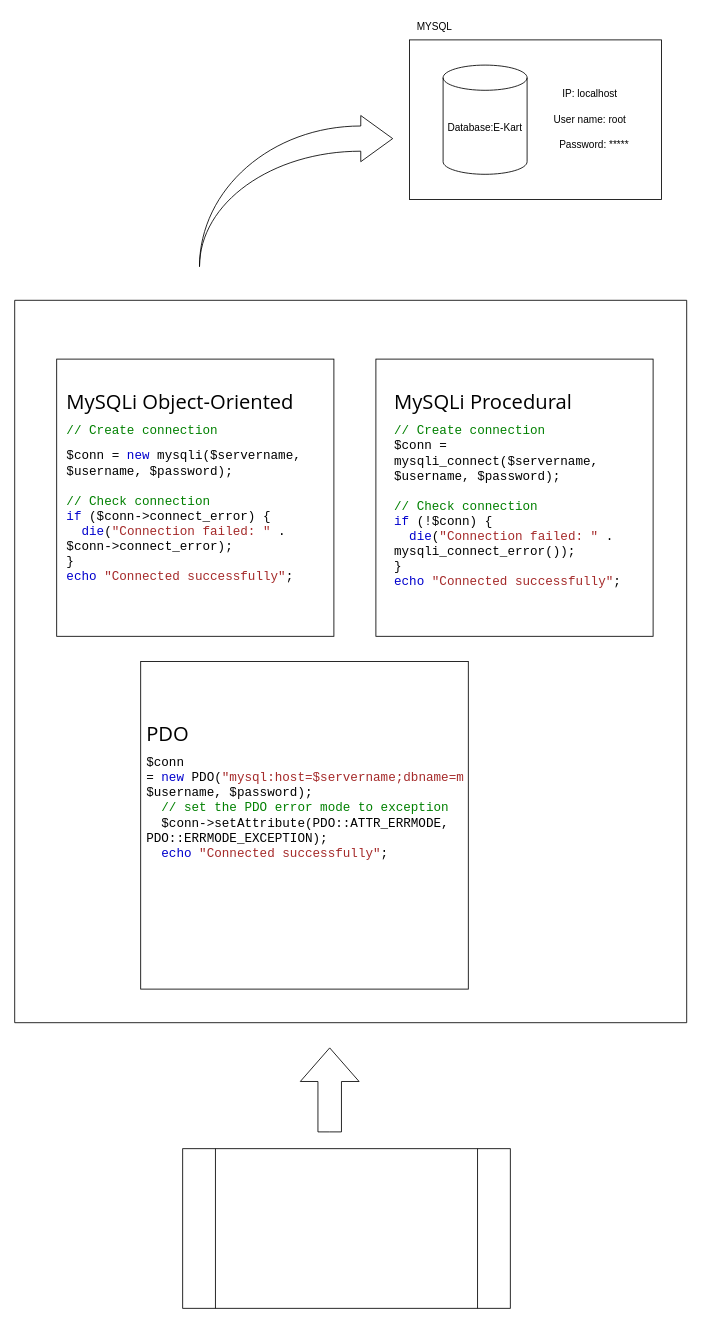
Some shapes in this 701 by 1323 pixel diagram are drawn without their labels. The centre of each missing label's shape, as x and y in pixels:
Methods: the point at 350,661
PHP: the point at 346,1228
